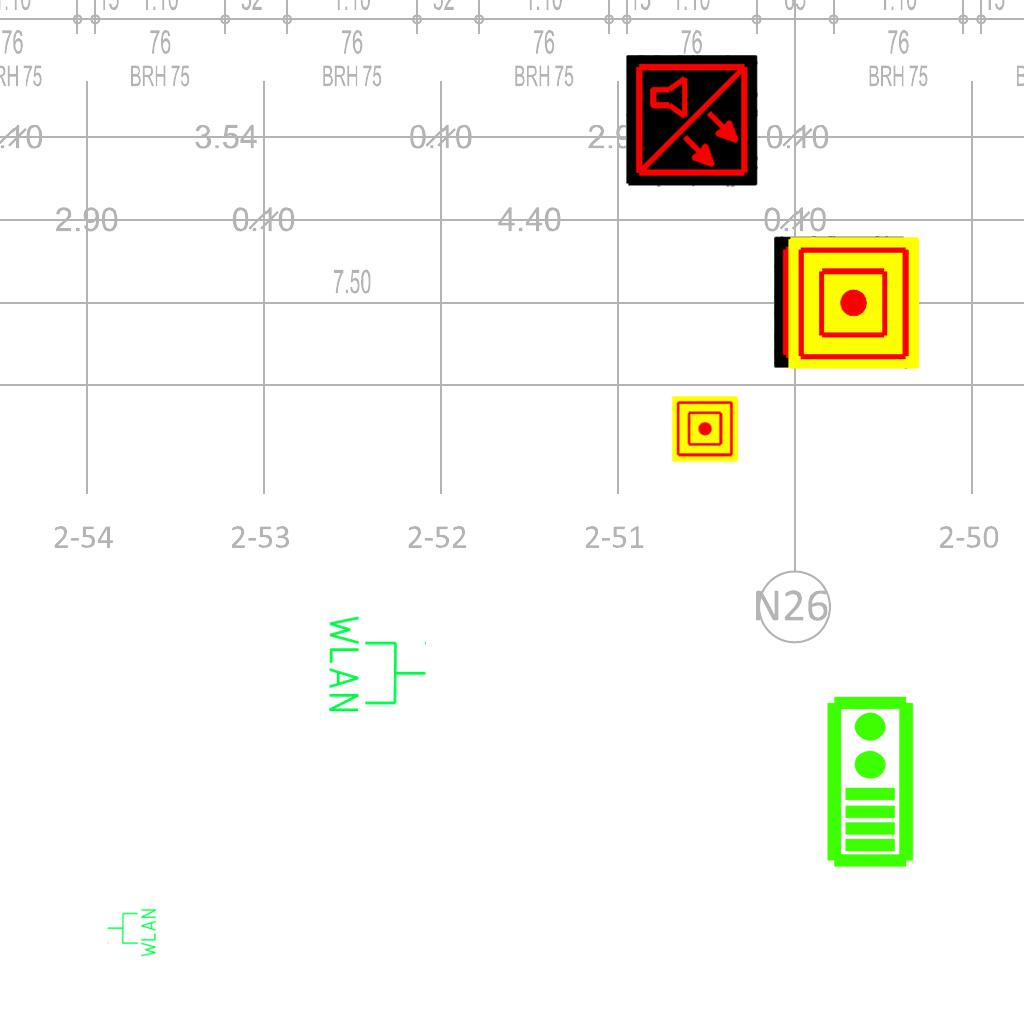Gegensprechanlage_mit_Video: (821, 693, 916, 869)
NAM-Nichtautomatischer_Melder: (788, 237, 920, 369), (672, 396, 738, 462)
OKW_Multisensormelder_(Kombination_optischer_Rauch-Kahlenmonoxid_Waerme-Melder): (774, 236, 906, 368), (626, 55, 758, 187)
WLAN: (325, 611, 429, 716), (106, 907, 158, 959)
